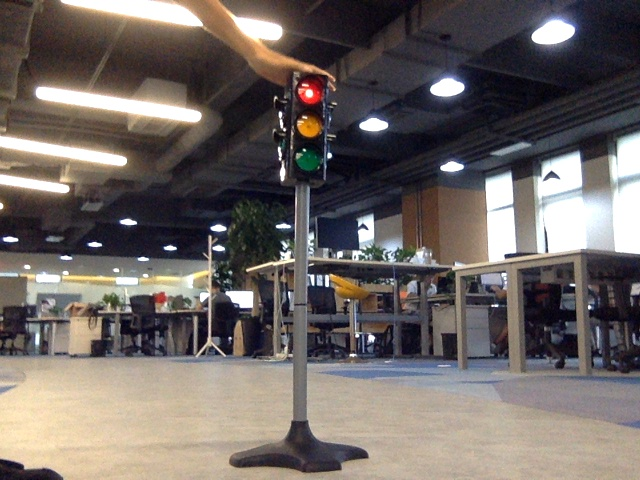red: (292, 80, 323, 174)
